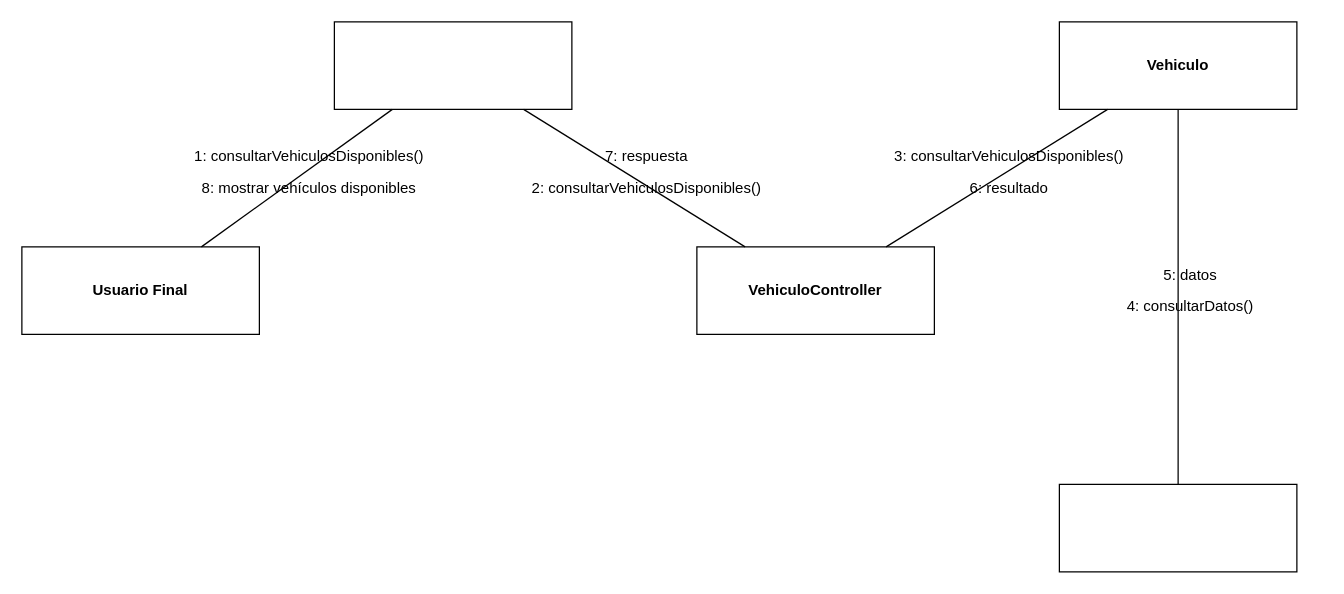
This 1344x594 diagram has some shape labels left out. Each missing label, with the centre of its shape:
"Interfaz Web" goes at point 452,65.
"Supabase/PostgreSQL" goes at point 1177,527.
